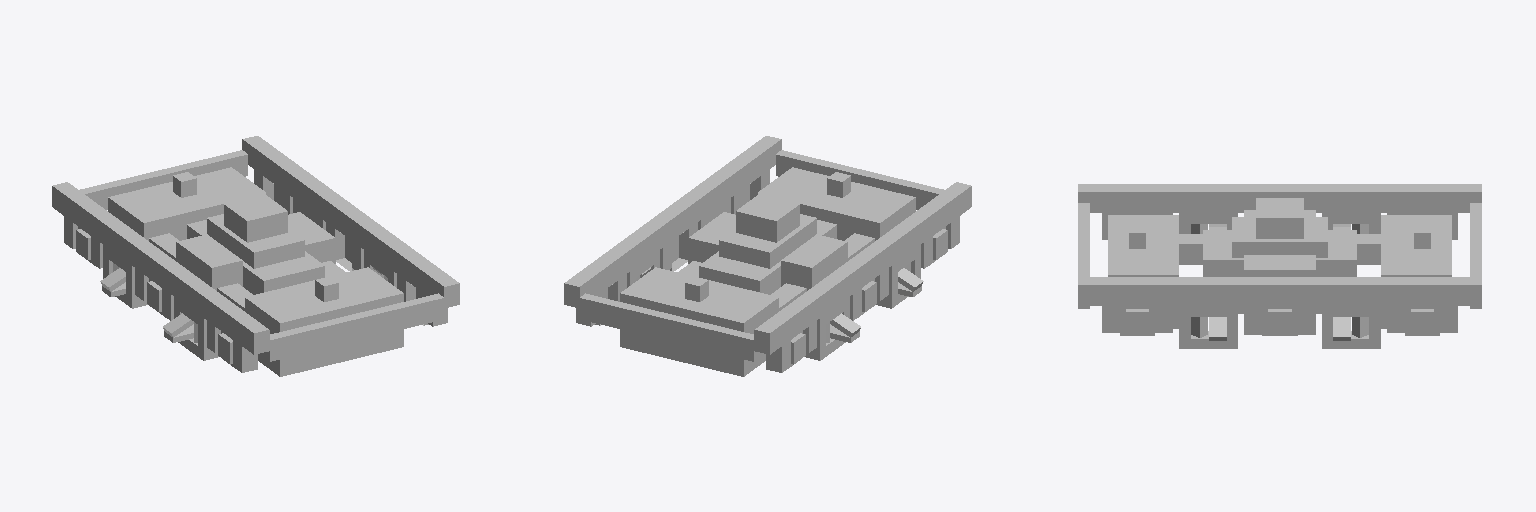
File: frame.obj
3 views of the same model, side by side, from view 1: azimuth 30°, elevation 25°; view 2: azimuth 150°, elevation 25°; view 3: azimuth 270°, elevation 25° (orthographic).
Visible parts, largest first — view 1: cube_8, cube_2, cube_54, cube_5, cube_22, cube_6, cube_1, cube_0, cube_28, cube_48, cube_20, cube_41 (+9 smaller); view 2: cube_2, cube_8, cube_22, cube_5, cube_54, cube_6, cube_1, cube_0, cube_20, cube_41, cube_28, cube_48 (+9 smaller); view 3: cube_2, cube_8, cube_1, cube_41, cube_48, cube_20, cube_28, cube_6, cube_42, cube_40, cube_49, cube_19 (+11 smaller).
Part boxes in pixels (x1,y1,x2,y2): cube_8: (245, 267, 403, 376); cube_2: (108, 167, 266, 240); cube_54: (264, 293, 443, 361); cube_5: (176, 234, 242, 290); cube_22: (79, 150, 247, 209); cube_6: (207, 214, 304, 268); cube_1: (187, 220, 324, 294); cube_0: (224, 194, 287, 242); cube_28: (204, 293, 269, 354); cube_48: (394, 246, 459, 308); cube_20: (52, 182, 117, 243); cube_41: (242, 136, 307, 196); cube_2: (620, 267, 778, 376); cube_8: (757, 167, 915, 240); cube_22: (580, 293, 759, 361); cube_5: (781, 234, 847, 290); cube_54: (776, 150, 944, 209); cube_6: (719, 214, 816, 268); cube_1: (699, 220, 836, 294); cube_0: (736, 194, 799, 242); cube_20: (754, 293, 819, 354); cube_41: (564, 246, 629, 308); cube_28: (906, 182, 971, 243); cube_48: (716, 136, 781, 196); cube_2: (1381, 215, 1451, 328); cube_8: (1108, 215, 1178, 328); cube_1: (1203, 230, 1356, 313); cube_41: (1381, 277, 1481, 305); cube_48: (1078, 277, 1178, 305); cube_20: (1381, 184, 1481, 212); cube_28: (1078, 184, 1178, 212); cube_6: (1232, 217, 1327, 257); cube_42: (1238, 277, 1321, 305); cube_40: (1322, 277, 1380, 316); cube_49: (1179, 277, 1237, 316); cube_19: (1322, 184, 1380, 223).
Bounding box in the file's own units: 2.92 × 1.12 × 4.25.